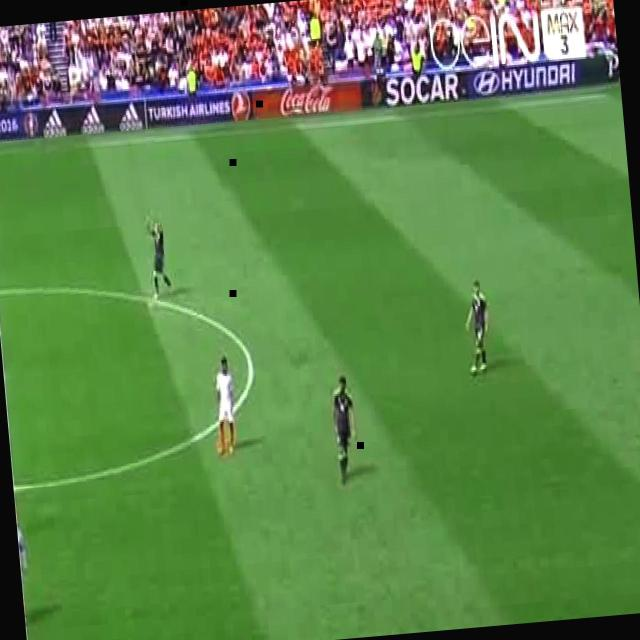player-white: (327, 372, 361, 484), (460, 279, 496, 379), (209, 357, 239, 459), (141, 214, 173, 304), (15, 511, 31, 627)
